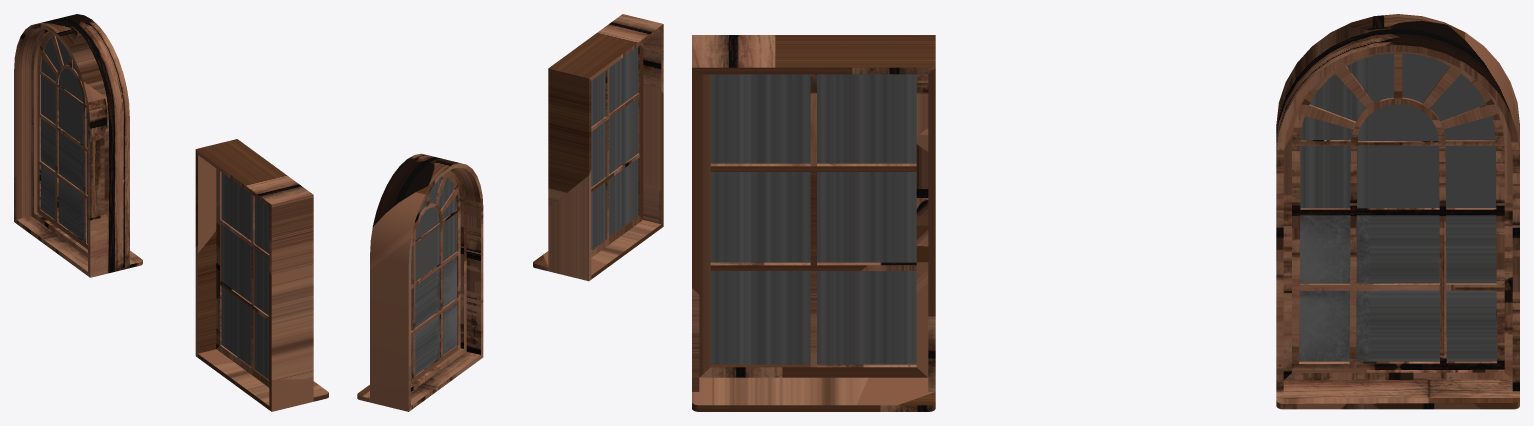
File: Windows.fbx
3 renders of one model, left to right at view 1: azimuth 30°, elevation 25°; view 2: azimuth 150°, elevation 25°; view 3: azimuth 270°, elevation 25°, orthographic. The views are drawn at different scales.
Visible parts, largest first — view 1: Window_square, Window_round; view 2: Window_square, Window_round; view 3: Window_square, Window_round.
Part boxes in pixels (x1,y1,x2,y2): Window_square: (195, 139, 328, 411); Window_round: (14, 14, 142, 277); Window_square: (533, 14, 663, 281); Window_round: (357, 153, 483, 411); Window_square: (692, 35, 935, 411); Window_round: (1276, 14, 1519, 409).
Size of the model in its own units: 0.4462 by 3.4 by 1.6.
2 materials, 2 textured.
